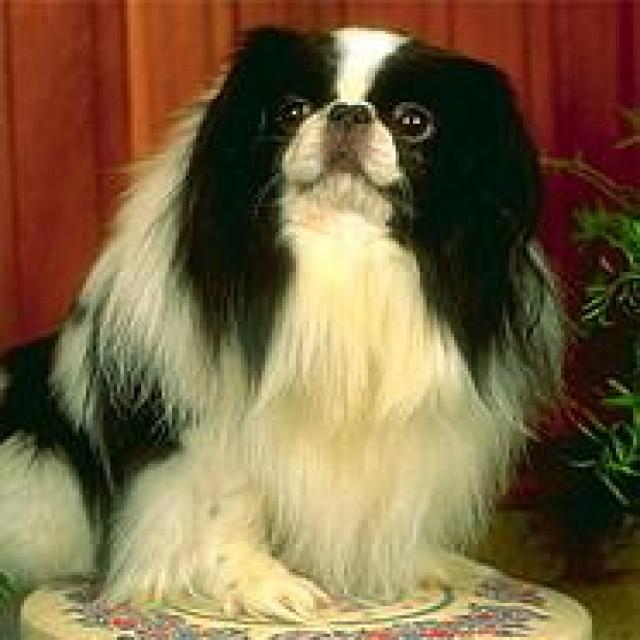husky: (3, 19, 554, 615)
